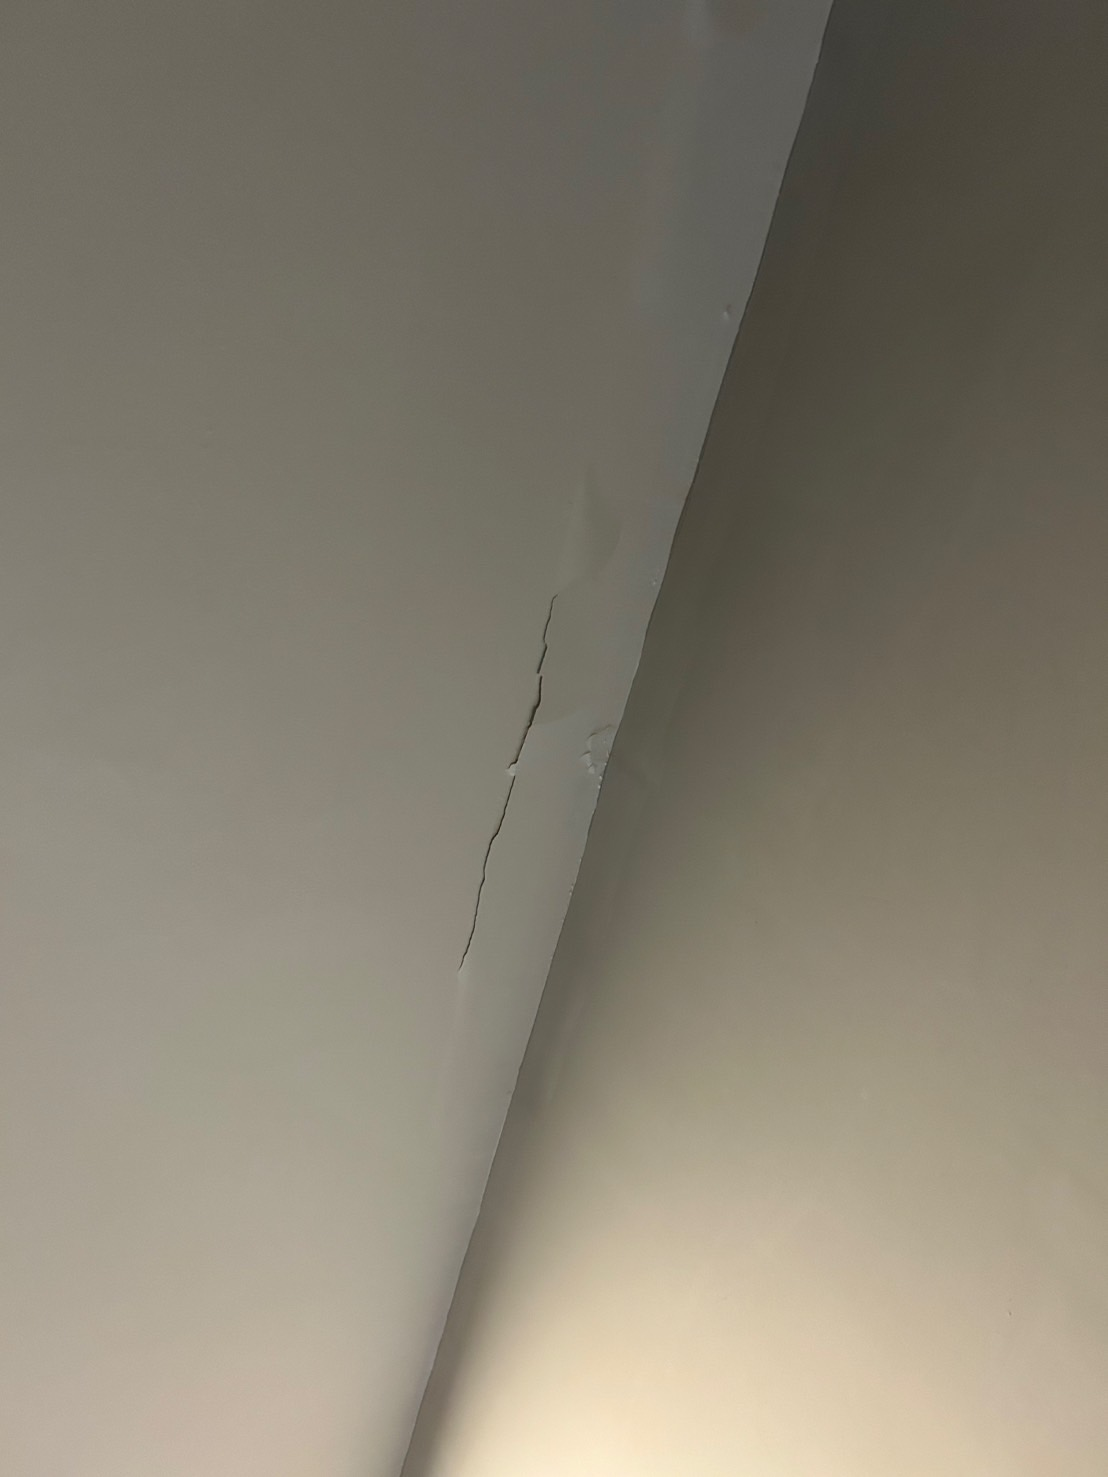Low: (398, 554, 642, 1021)
